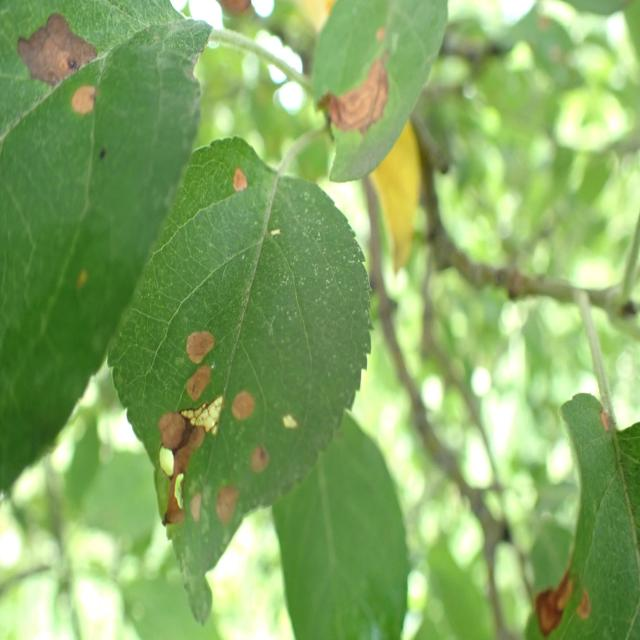Black Rot: (304, 17, 399, 153), (151, 378, 225, 526), (6, 12, 104, 85), (217, 384, 266, 438), (181, 314, 223, 371), (208, 482, 243, 548), (70, 80, 101, 146), (178, 356, 210, 412), (245, 438, 276, 484), (232, 148, 258, 202), (266, 213, 288, 260), (74, 262, 96, 302), (279, 404, 296, 443)
